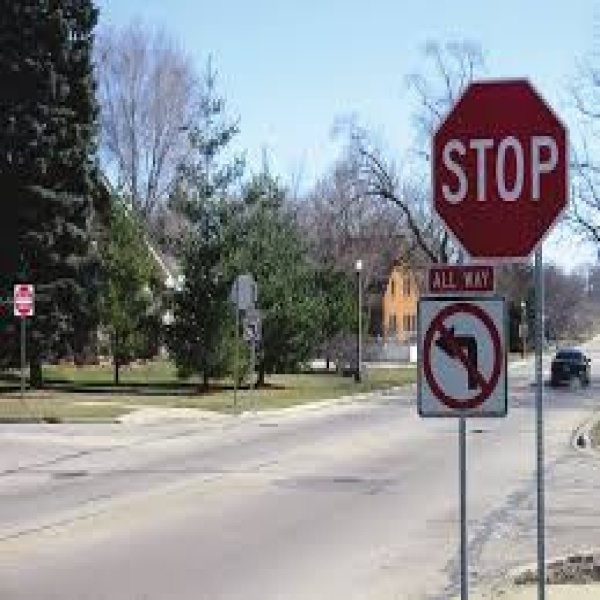stop: (258, 73, 460, 251)
